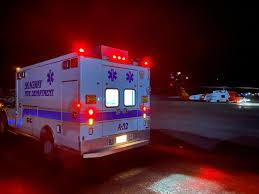AMBULANCE: (65, 92, 151, 135), (66, 42, 155, 74), (19, 71, 59, 99)
